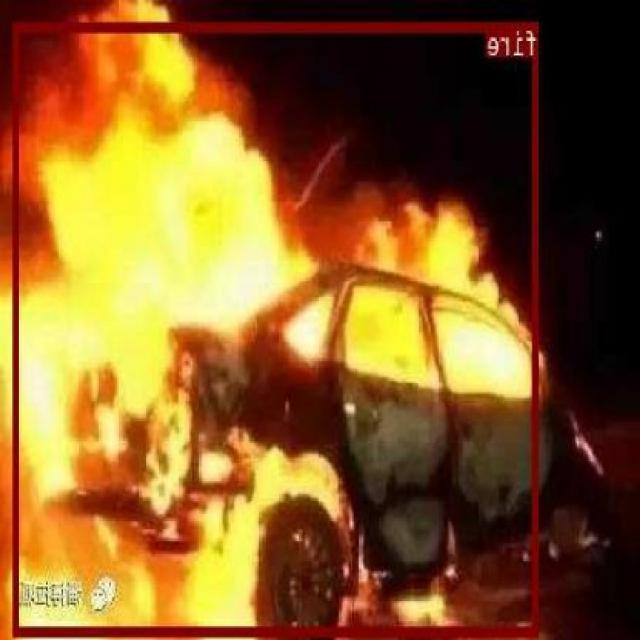Fire: (14, 22, 540, 636)
